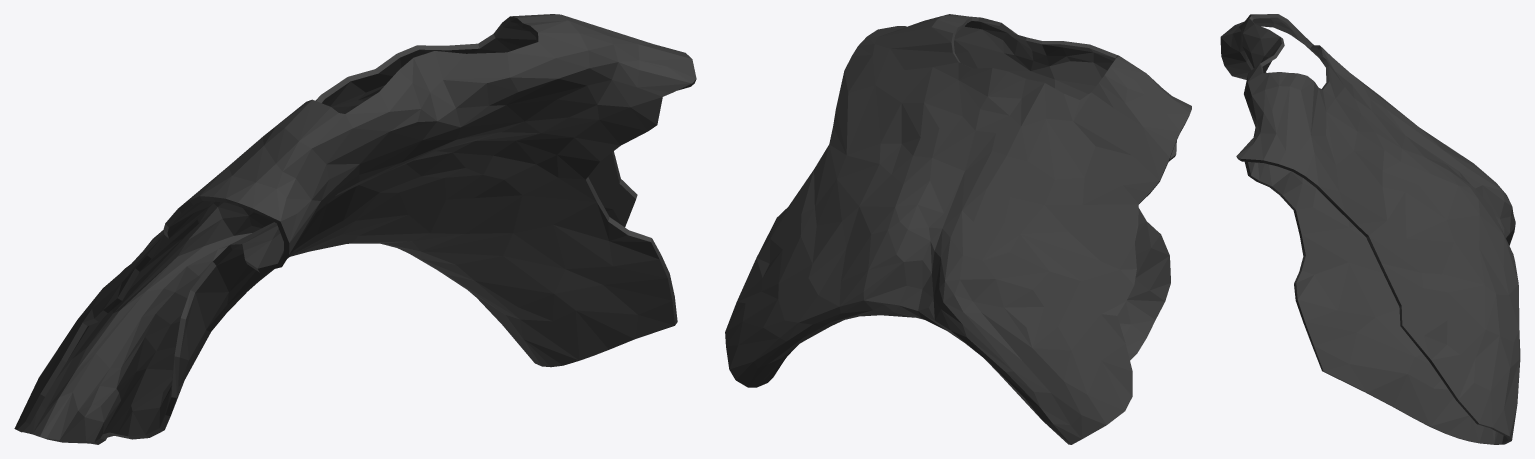
File: c1_arch.glb
3 renders of one model, left to right at view 1: azimuth 30°, elevation 25°; view 2: azimuth 150°, elevation 25°; view 3: azimuth 270°, elevation 25°, orthographic. The views are drawn at different scales.
Parts seen in each view (by area): view 1: c1_arch; view 2: c1_arch; view 3: c1_arch.
Part boxes in pixels (left/top/right/bottom): c1_arch: left=14, top=14, right=696, bottom=444; c1_arch: left=725, top=14, right=1191, bottom=444; c1_arch: left=1220, top=14, right=1520, bottom=444.
Bounding box in the file's own units: 28.17 × 21.75 × 18.4.
1 material, 1 textured.
